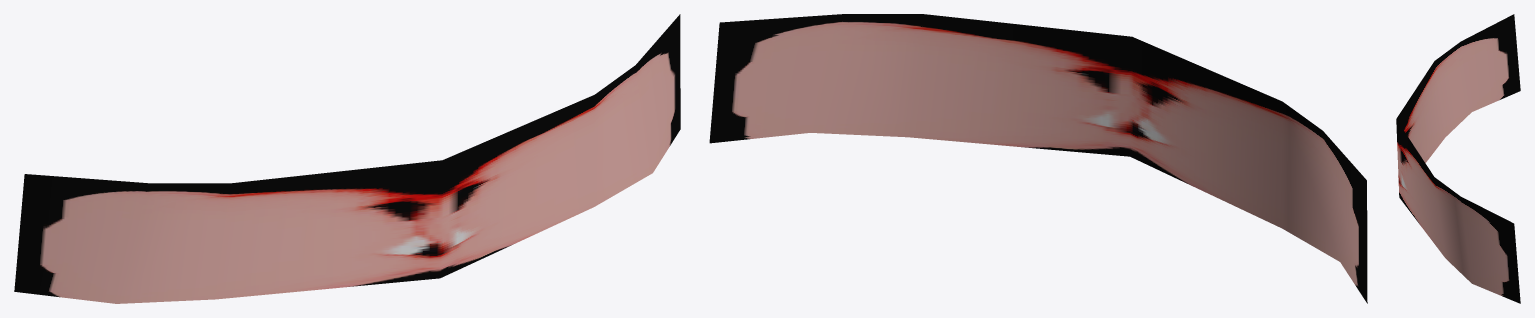
Rendered from AvatarQ_Stigmata_S3L_UI.fbx.
The picture shows the model from 3 angles, left to right: view 1: azimuth 30°, elevation 25°; view 2: azimuth 150°, elevation 25°; view 3: azimuth 270°, elevation 25°; orthographic projection. The views are drawn at different scales.
Visible parts, largest first — view 1: blush; view 2: blush; view 3: blush.
Boxes of the visible parts, x1=… form: blush: x1=14, y1=14, x2=680, y2=303; blush: x1=709, y1=14, x2=1367, y2=303; blush: x1=1396, y1=14, x2=1520, y2=303.
Bounding box in the file's own units: 0.4738 × 0.0821 × 0.117.
